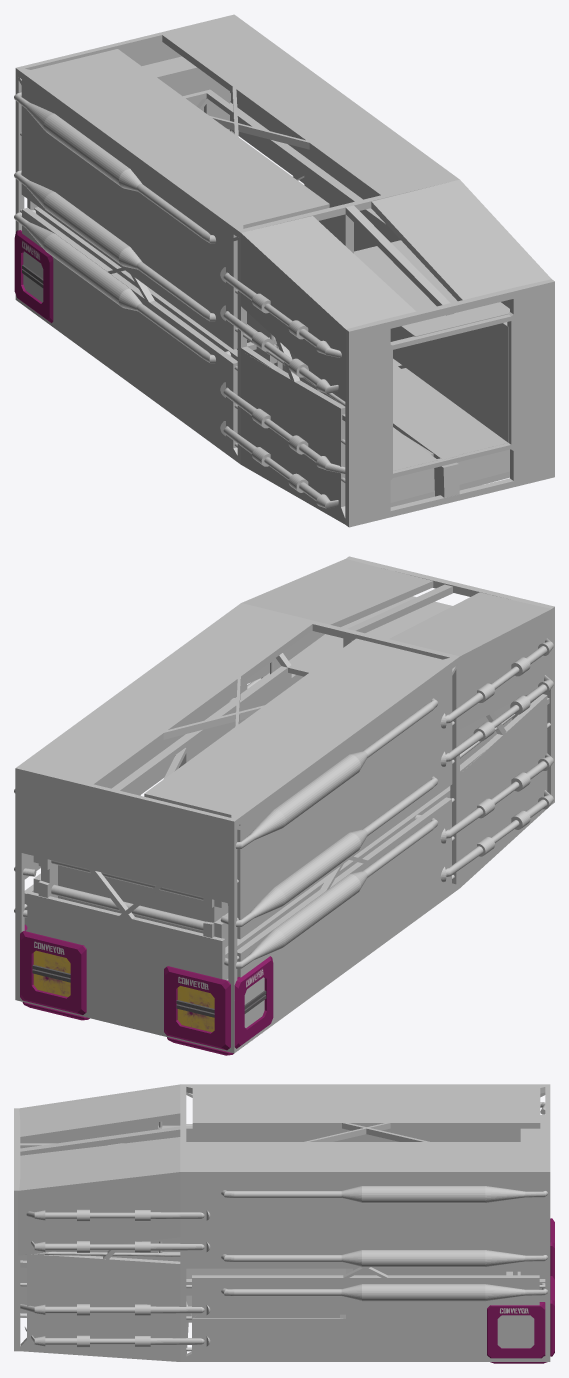
The model's file is Souper_CruiseMissile_Launcher_Constr3.fbx.
3 renders of one model, top to bottom at view 1: azimuth 30°, elevation 25°; view 2: azimuth 150°, elevation 25°; view 3: azimuth 270°, elevation 25°, orthographic. The views are drawn at different scales.
Visible parts, largest first — view 1: Cube.020, Cylinder.018, Cube.015, Cylinder.014, Cylinder.017, Cube.023; view 2: Cube.020, Cylinder.018, Cube.015, Cube.025, Cube.024, Cylinder.017, Cylinder.014, Cube.023, Cylinder.012; view 3: Cube.020, Cylinder.018, Cube.015, Cylinder.014, Cylinder.017, Cube.026, Cylinder.009, Cube.025.
Boxes of the visible parts, bbox=[...] form: Cube.020: bbox=[15, 14, 554, 527]; Cylinder.018: bbox=[14, 92, 230, 363]; Cube.015: bbox=[34, 56, 373, 363]; Cylinder.014: bbox=[220, 382, 345, 508]; Cylinder.017: bbox=[220, 267, 341, 393]; Cube.023: bbox=[14, 230, 53, 323]; Cube.020: bbox=[15, 556, 554, 1053]; Cylinder.018: bbox=[14, 698, 438, 968]; Cube.015: bbox=[33, 658, 450, 980]; Cube.025: bbox=[20, 931, 86, 1014]; Cube.024: bbox=[164, 966, 230, 1050]; Cylinder.017: bbox=[229, 638, 553, 766]; Cylinder.014: bbox=[440, 753, 553, 882]; Cube.023: bbox=[234, 956, 273, 1048]; Cylinder.012: bbox=[51, 860, 204, 930]; Cube.020: bbox=[14, 1084, 550, 1361]; Cylinder.018: bbox=[221, 1102, 547, 1301]; Cube.015: bbox=[158, 1115, 545, 1322]; Cylinder.014: bbox=[20, 1304, 210, 1347]; Cylinder.017: bbox=[26, 1124, 210, 1252]; Cube.026: bbox=[487, 1302, 545, 1358]; Cylinder.009: bbox=[20, 1251, 545, 1351]; Cube.025: bbox=[550, 1276, 554, 1356].
Bounding box in the file's own units: 8.26 × 7.75 × 19.48.
